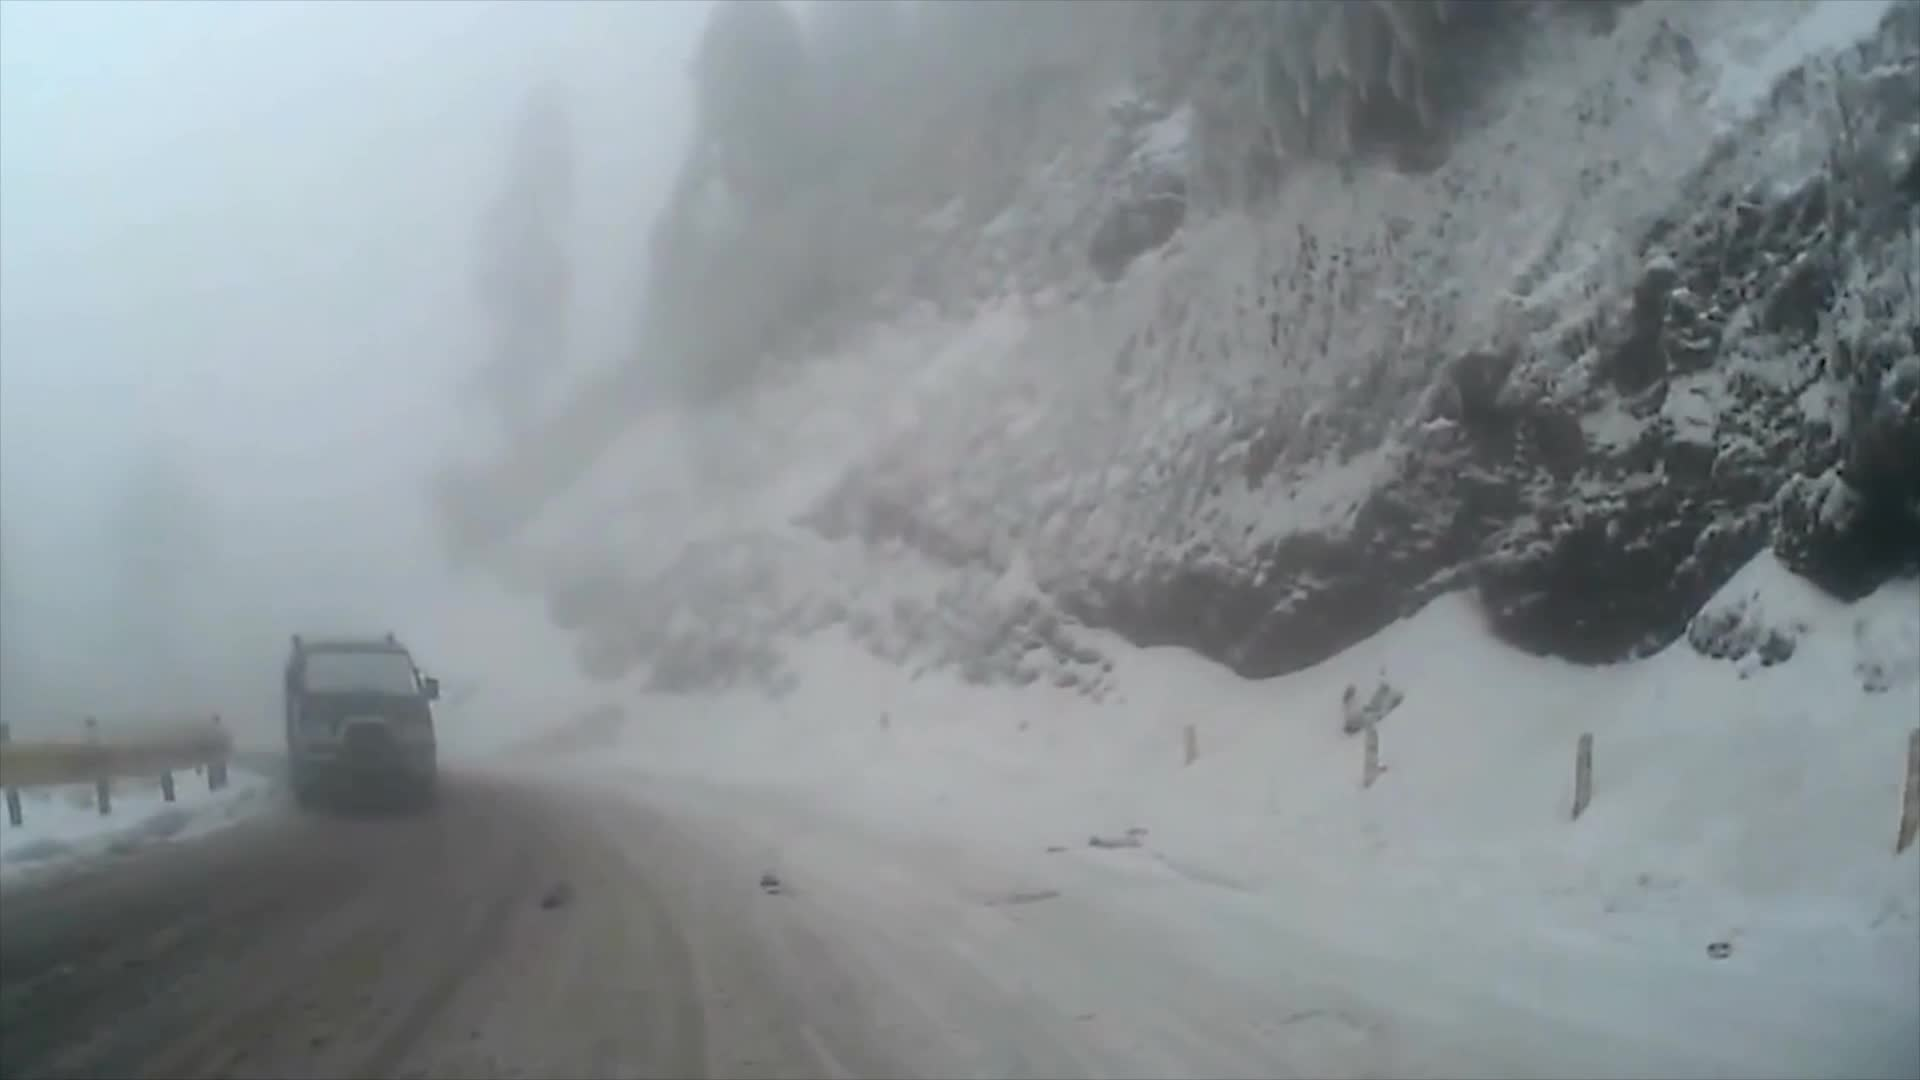vehicle: (282, 630, 439, 815)
